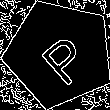P_NW: (28, 22, 90, 85)
